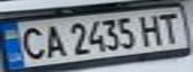2: (66, 19, 90, 56)
3: (103, 16, 124, 52)
4: (84, 17, 106, 54)
5: (115, 15, 139, 49)
A: (39, 21, 69, 59)
C: (12, 25, 48, 62)
H: (136, 11, 166, 47)
T: (154, 10, 181, 44)
